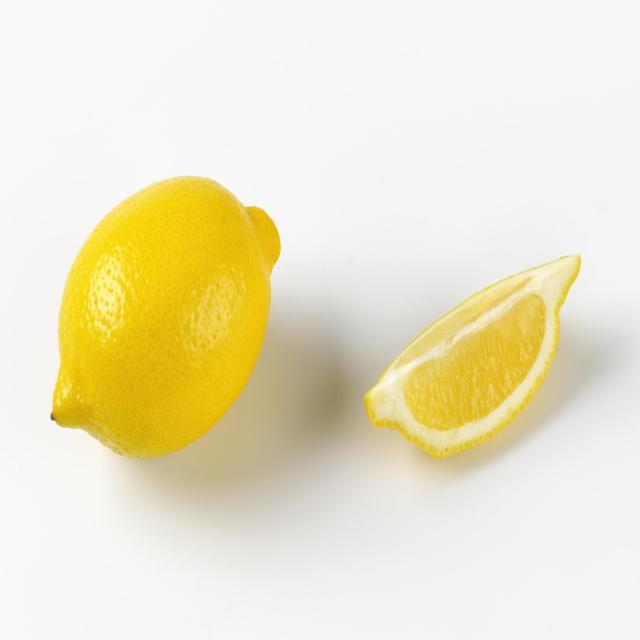lemon: (48, 170, 285, 463), (359, 249, 585, 466)
